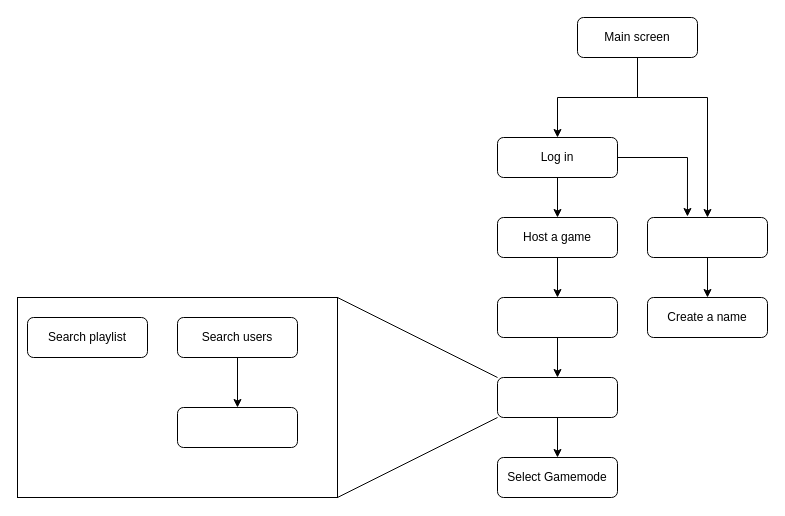
This 785x516 diagram has some shape labels left out. The shapes that lost their labels are listed below. From the top down, each one's box as (x1, y1, x2, y2) in pixels, then its label:
(646, 216, 768, 258): Join a game
(496, 296, 618, 338): Select an audio device
(496, 376, 618, 418): Select playlist
(176, 406, 298, 448): Select playlists
